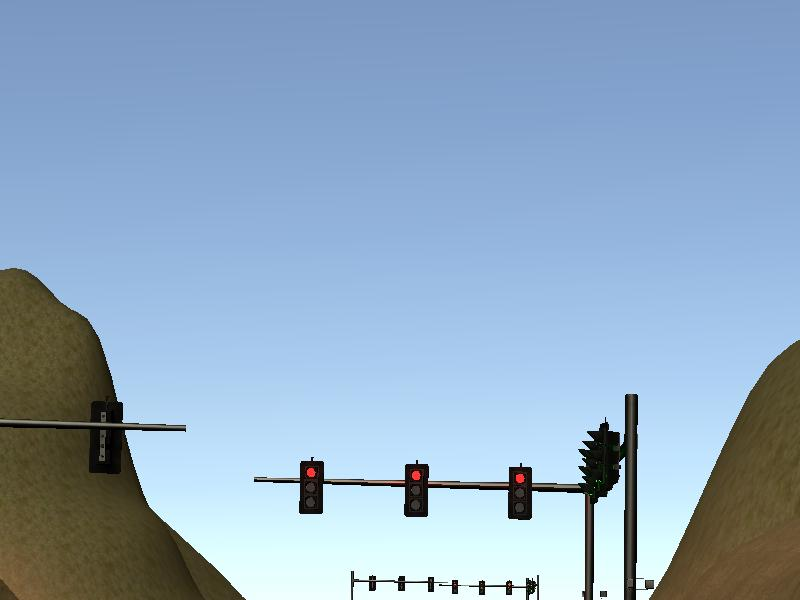red: (299, 459, 323, 514), (404, 462, 428, 517), (508, 465, 532, 520)
